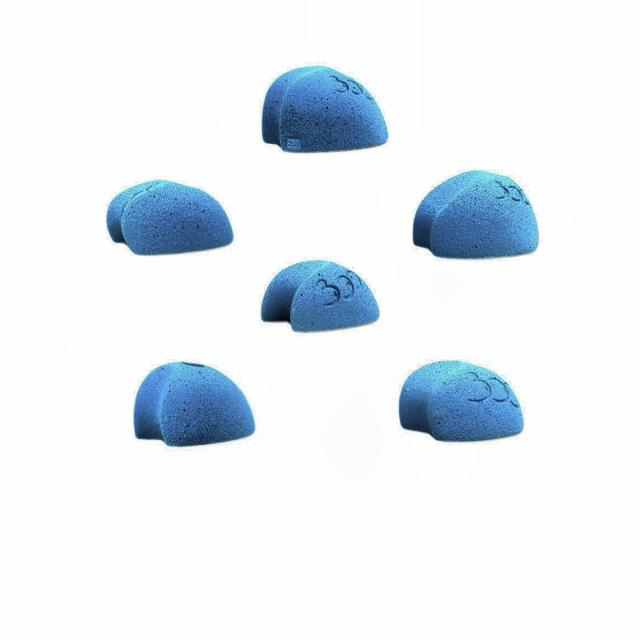Hold: (108, 166, 231, 266), (257, 66, 393, 156), (132, 362, 263, 452), (409, 175, 545, 256), (399, 362, 521, 446), (264, 263, 375, 340)
